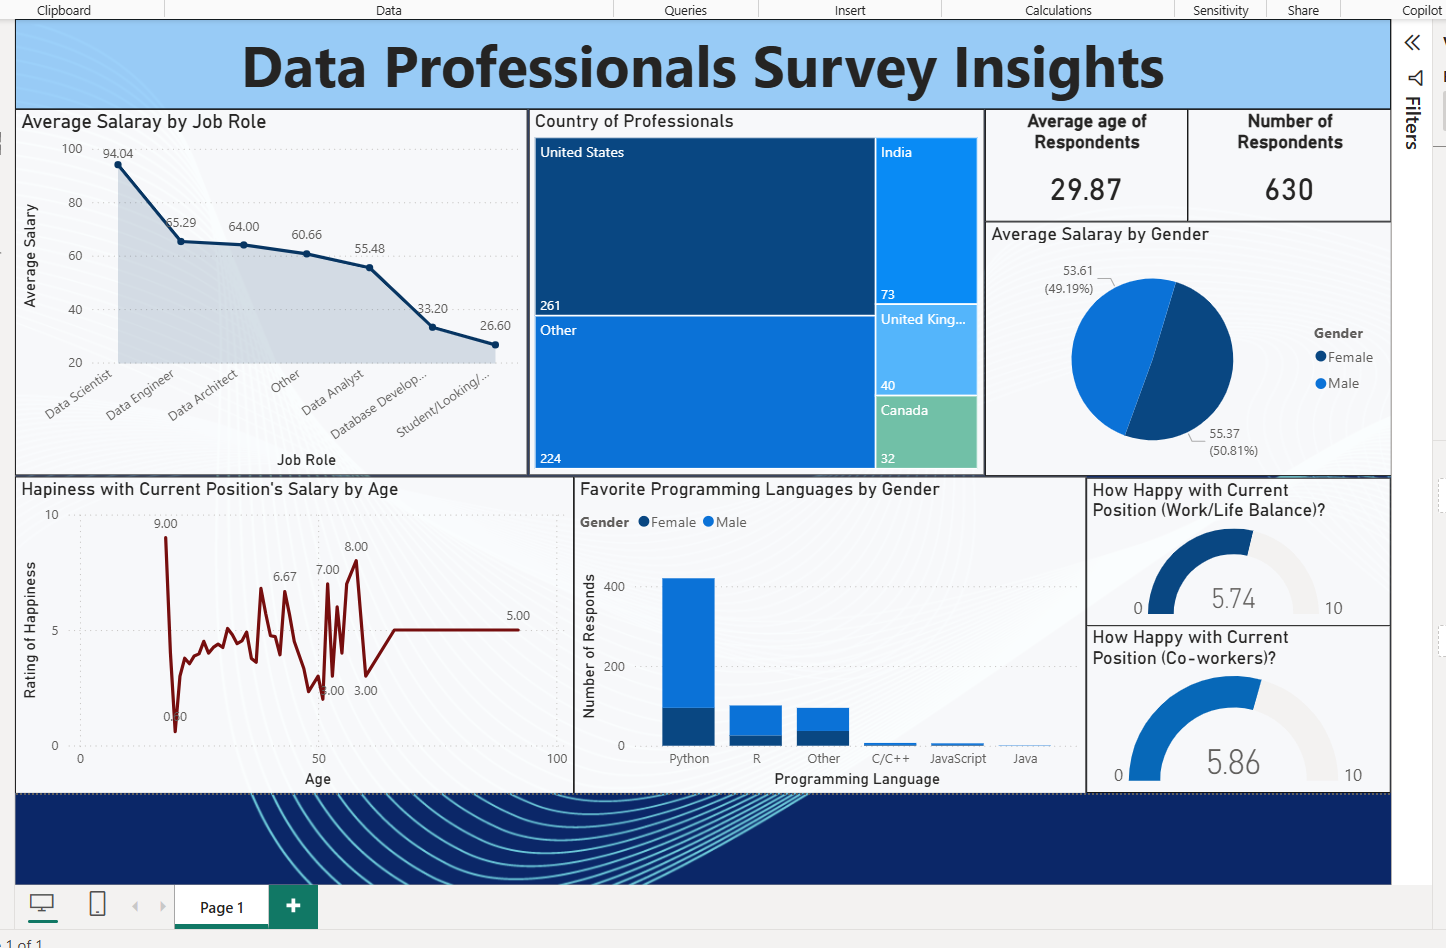

The dashboard page shown, as its layout file describes it:
{"tool":"powerbi","page":{"name":"Page 1","canvas":[1280,720],"ordinal":0},"visuals":[{"type":"textbox","box":[0,0,1280.2,83.7],"z":0},{"type":"card","title":"Number of Respondents","fields":{"Values":["Count(Demographics.Unique ID)"]},"box":[1090.3,84.1,189.7,104.5],"z":1000},{"type":"card","title":"Average age of Respondents","fields":{"Values":["Avg(Demographics.Age)"]},"box":[901.8,84.1,188.5,104.5],"z":2000},{"type":"areaChart","title":"Average Salaray by Job Role","fields":{"Category":["Career & Compensation.Current Role"],"Y":["Avg(Career & Compensation.Average Salaray)"]},"box":[0,84.1,476.7,341],"z":3000},{"type":"columnChart","title":"Favorite Programming Languages by Gender","fields":{"Series":["Demographics.Gender"],"Category":["Career & Compensation. Favorite Programming Language.1"],"Y":["CountNonNull(Career & Compensation.Unique ID)"]},"box":[519.9,425.1,476.7,295.4],"z":4000},{"type":"lineChart","title":"Hapiness with Current Position''s Salary by Age","fields":{"Category":["Demographics.Age"],"Y":["Avg(Job Satisfaction & Survey.Q1 - How Happy are you in your Current Position with the following? (Salary))"]},"box":[0,425.1,519.9,295.4],"z":5000},{"type":"pieChart","title":"Average Salaray by Gender","fields":{"Category":["Demographics.Gender"],"Y":["Avg(Career & Compensation.Average Salaray)"]},"box":[901.8,188.5,378.2,236.5],"z":6000},{"type":"treemap","title":"Country of Professionals","fields":{"Group":["Demographics.Country.1"],"Values":["CountNonNull(Demographics.Country.1)"]},"box":[477.9,84.1,423.9,341],"z":7000},{"type":"gauge","title":"How Happy with Current Position (Work/Life Balance)?","fields":{"Y":["Avg(Job Satisfaction & Survey.Q2 - How Happy are you in your Current Position with the following? (Work/Life Balance))"],"MinValue":["Min(Job Satisfaction & Survey.Q2 - How Happy are you in your Current Position with the following? (Work/Life Balance))"],"MaxValue":["Max(Job Satisfaction & Survey.Q2 - How Happy are you in your Current Position with the following? (Work/Life Balance))1"]},"box":[996.6,426.3,283.4,138.1],"z":8000},{"type":"gauge","title":"How Happy with Current Position (Co-workers)?","fields":{"Y":["Avg(Job Satisfaction & Survey.Q3 - How Happy are you in your Current Position with the following? (Coworkers))"],"MinValue":["Min(Job Satisfaction & Survey.Q3 - How Happy are you in your Current Position with the following? (Coworkers))"],"MaxValue":["Max(Job Satisfaction & Survey.Q3 - How Happy are you in your Current Position with the following? (Coworkers))1"]},"box":[996.6,564.4,283.4,156.1],"z":9000}]}

Visuals, with their boxes in screenshot pixels (x1, y1, x2, y2):
textbox: 11, 15, 1387, 105
"Number of Respondents" card: 1183, 105, 1387, 218
"Average age of Respondents" card: 980, 105, 1183, 218
"Average Salaray by Job Role" areaChart: 11, 105, 524, 472
"Favorite Programming Languages by Gender" columnChart: 570, 472, 1082, 789
"Hapiness with Current Position''s Salary by Age" lineChart: 11, 472, 570, 789
"Average Salaray by Gender" pieChart: 980, 218, 1387, 472
"Country of Professionals" treemap: 525, 105, 980, 472
"How Happy with Current Position (Work/Life Balance)?" gauge: 1082, 473, 1387, 622
"How Happy with Current Position (Co-workers)?" gauge: 1082, 622, 1387, 789
